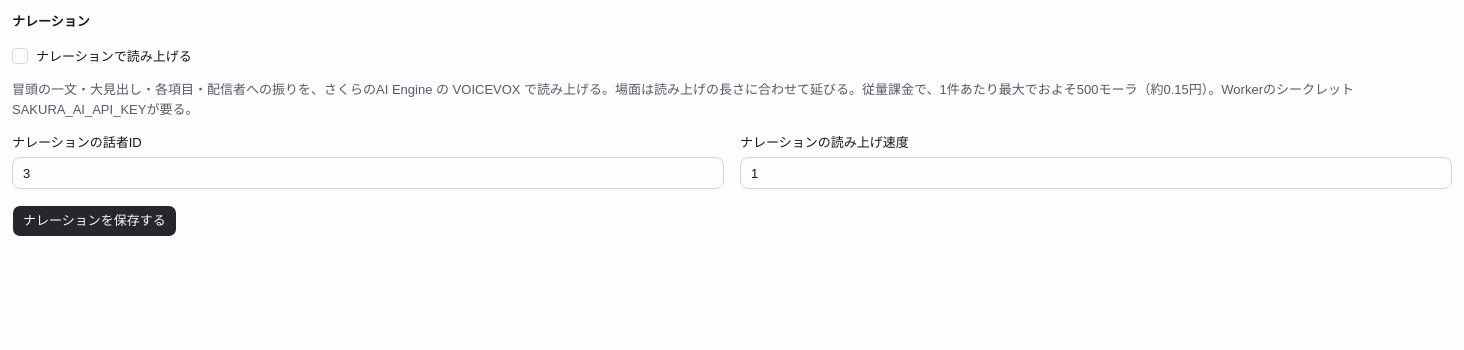
TownTourNarrationSection › 保存を断られたら、問題点を入力欄の名前に読み替えて1行ずつ出す
Step 1. Replace the text in the number field labelled "ナレーションの読み上げ速度" with "5" → (1096, 173), box [740,157,1452,189]
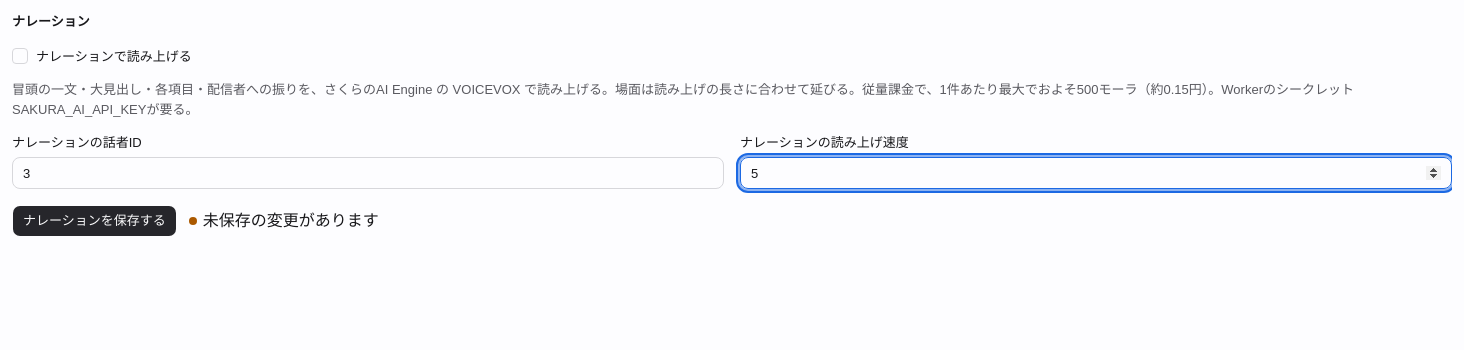
Step 2. Click the button "ナレーションを保存する" → (94, 221), box [12,205,177,237]
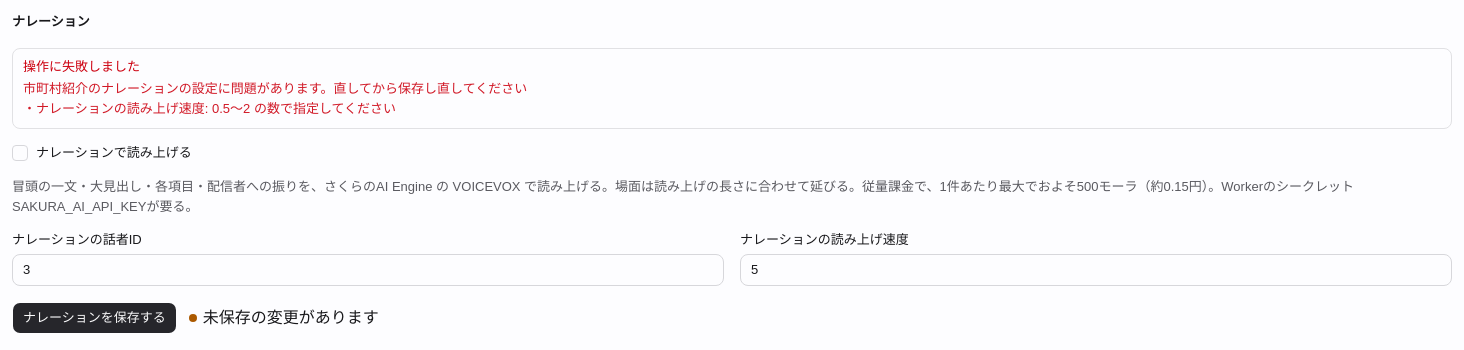
Result: the text "・ナレーションの読み上げ速度: 0.5〜2 の数で指定してください" is shown at [23,81,527,116]
